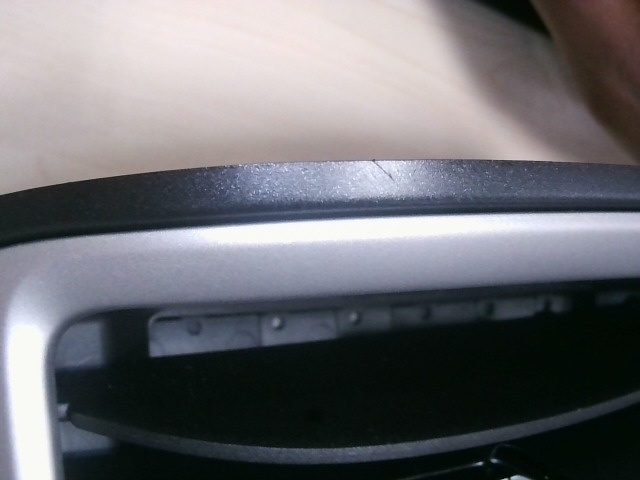NG: (364, 151, 401, 191)
